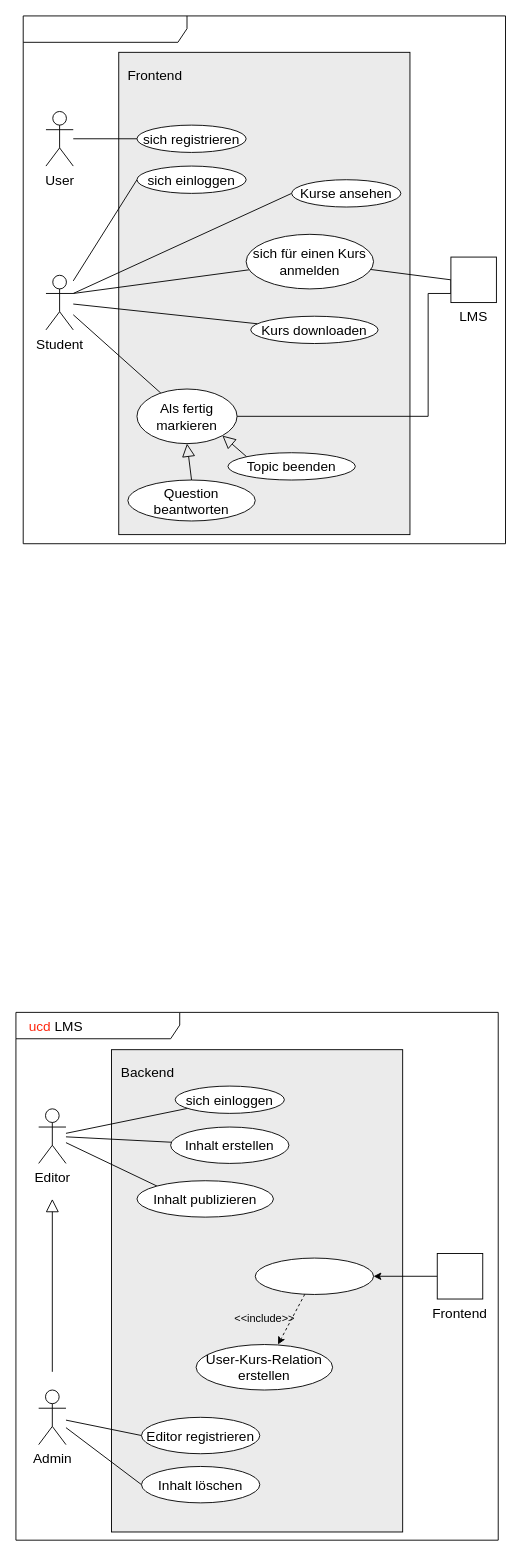
This 521x1556 diagram has some shape labels left out. Each missing label, with the centre of its shape:
"ucd Kursmanagement" belongs at (x=264, y=279).
"User registrieren" belongs at (x=314, y=1275).
